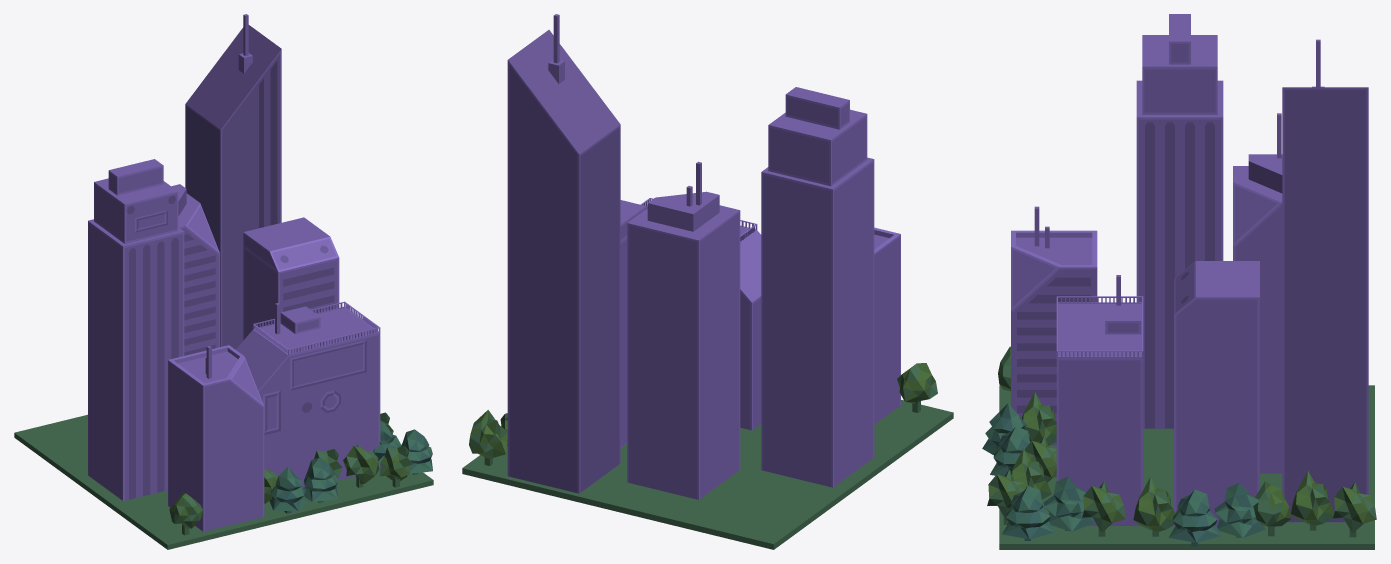
The model's file is Apartment.fbx.
3 views of the same model, side by side, from view 1: azimuth 30°, elevation 25°; view 2: azimuth 150°, elevation 25°; view 3: azimuth 270°, elevation 25° (orthographic). The views are drawn at different scales.
Parts seen in each view (by area): view 1: Apartment2, Apartment4, Apartment6, Apartment(Ground), Apartment1, Apartment5, Apartment3; view 2: Apartment4, Apartment2, Apartment3, Apartment(Ground), Apartment1, Apartment6, Apartment5; view 3: Apartment4, Apartment(Ground), Apartment2, Apartment5, Apartment6, Apartment1, Apartment3.
Boxes of the visible parts, x1,y1,x2,y2 form: Apartment2: (88,159,184,500); Apartment4: (185,14,281,349); Apartment6: (236,301,380,487); Apartment(Ground): (14,412,433,549); Apartment1: (168,345,264,531); Apartment5: (243,217,339,340); Apartment3: (171,184,219,355); Apartment4: (507,14,620,493); Apartment2: (761,87,874,487); Apartment3: (627,161,740,499); Apartment(Ground): (462,363,953,549); Apartment1: (874,227,900,424); Apartment6: (641,198,761,430); Apartment5: (620,200,647,447); Apartment4: (1282,39,1368,522); Apartment(Ground): (982,346,1376,549); Apartment2: (1136,14,1223,428); Apartment5: (1174,261,1259,527); Apartment6: (1056,275,1143,525); Apartment1: (1011,206,1097,445); Apartment3: (1233,113,1282,473).
Bounding box in the file's own units: 185 × 243 × 183.
